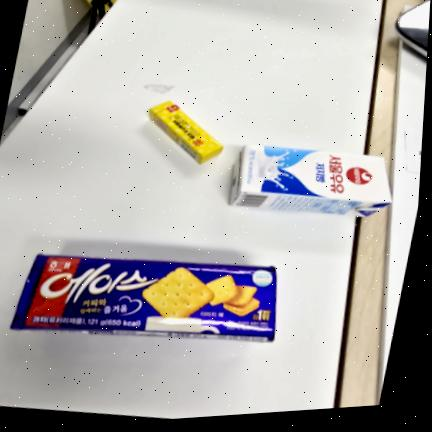cracker_ace: (10, 254, 276, 341)
gum_yellow: (148, 100, 223, 163)
milk_blue: (229, 145, 391, 216)
